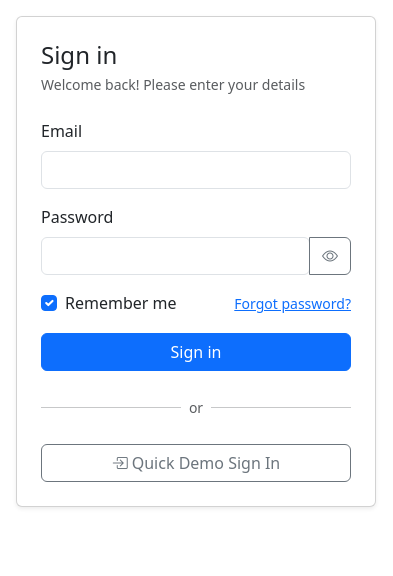
Test: should validate required fields
What coordinates should you click on to do the following:
click the button "Sign in"
I would click on:
 (196, 352)
Its box is [41,333,351,371].
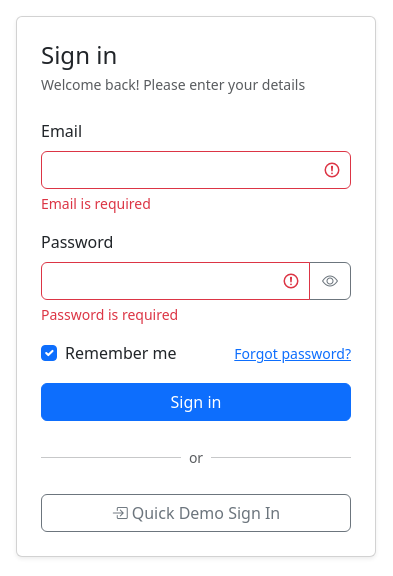
Check: the text "Email is required" is shown, box [41,194,151,213]
Check: the text "Password is required" is shown, box [41,305,178,324]
